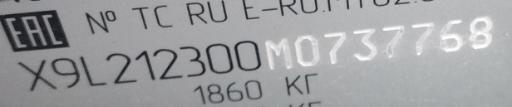letter: (14, 56, 58, 93), (102, 48, 140, 85), (150, 45, 184, 80), (77, 52, 111, 87), (176, 41, 208, 78), (264, 36, 296, 71), (438, 16, 466, 55), (380, 24, 410, 59), (292, 33, 322, 68), (50, 54, 80, 89), (350, 24, 378, 61), (232, 39, 262, 72), (204, 40, 234, 73), (467, 13, 493, 50), (408, 19, 434, 56), (134, 45, 158, 84), (322, 29, 346, 66)
